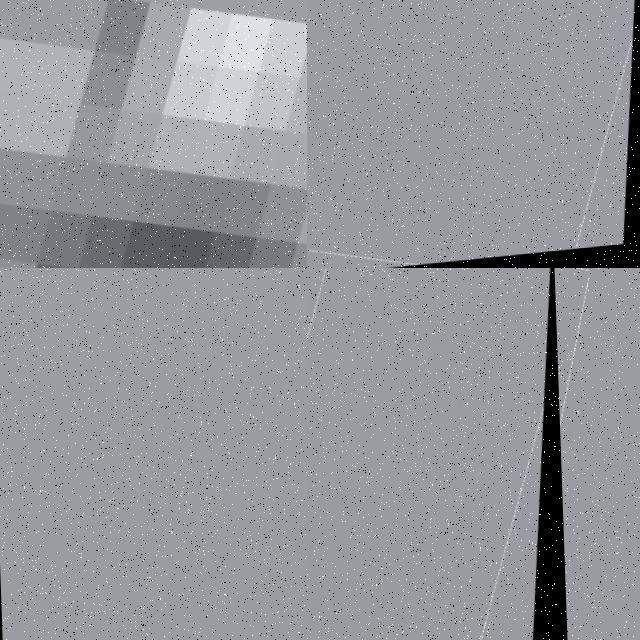drone: (307, 268, 575, 640), (307, 0, 640, 268), (0, 0, 307, 268)
